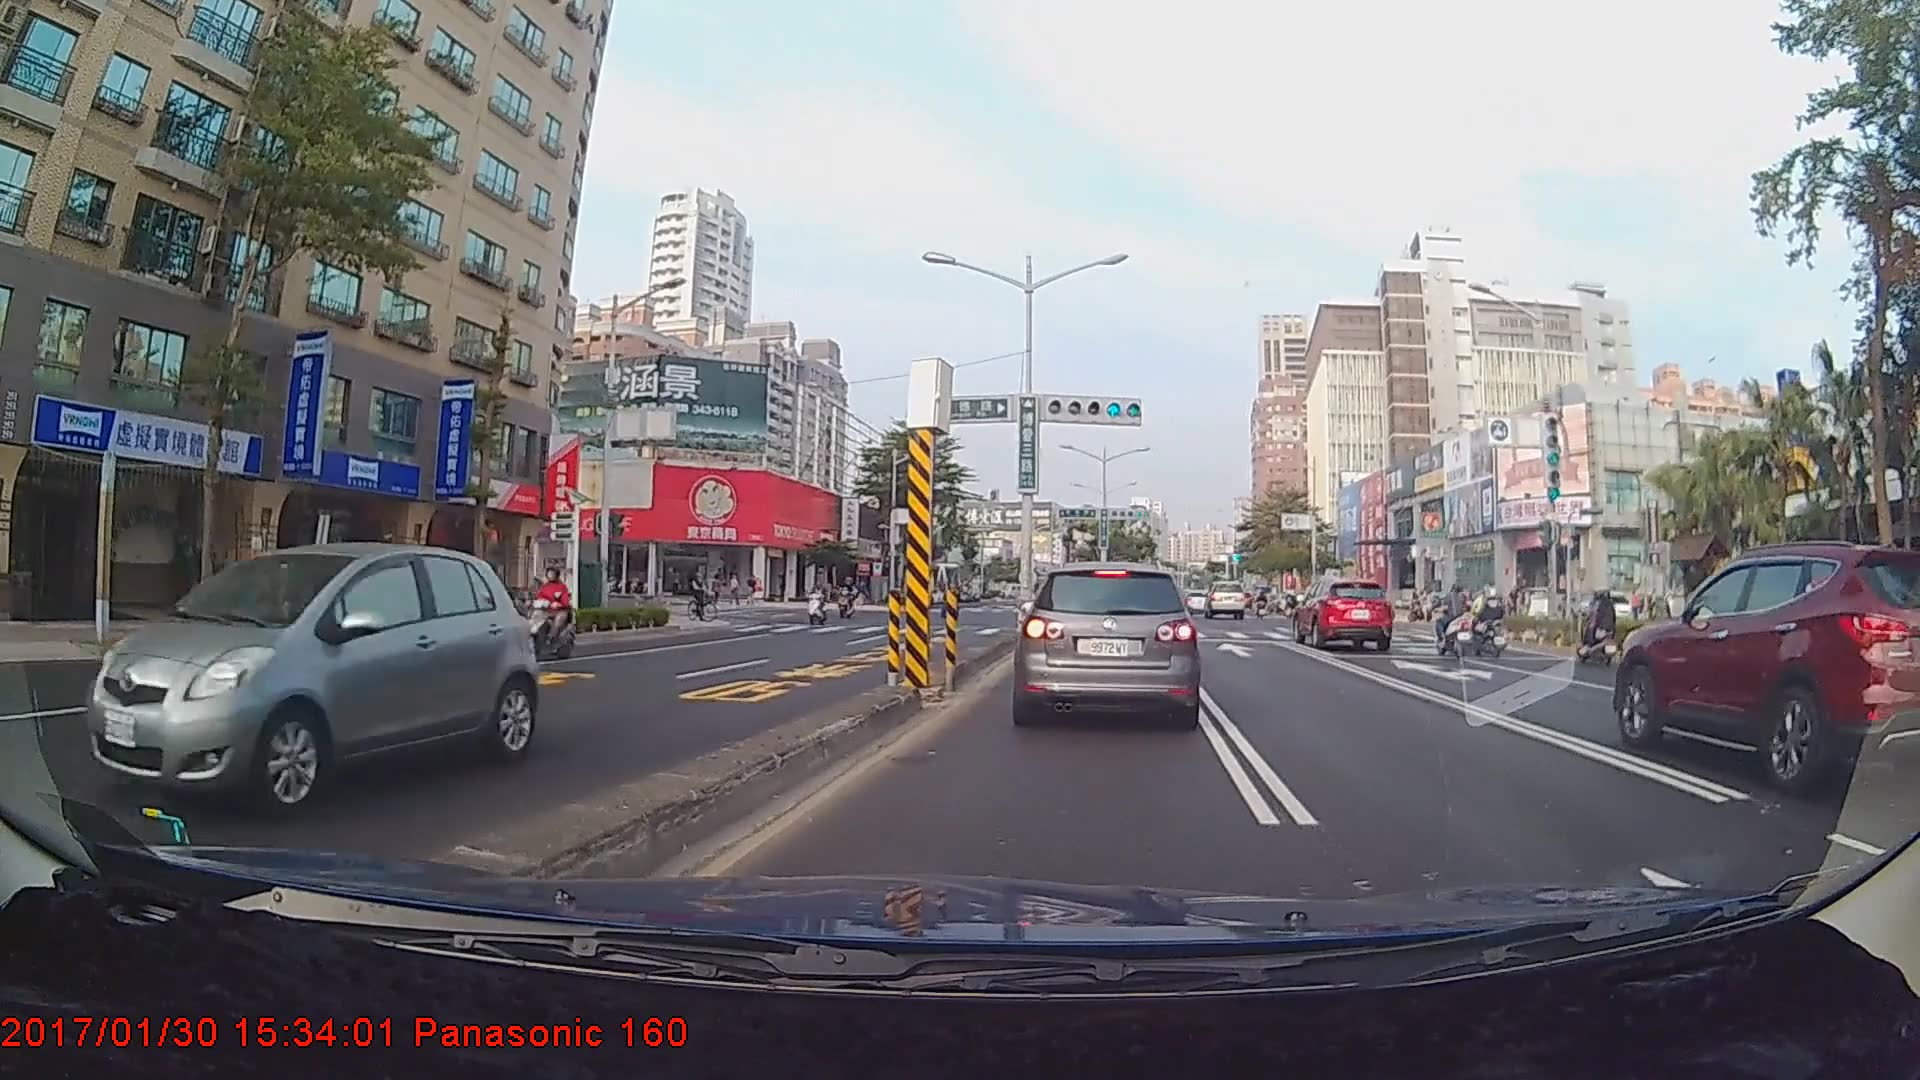rider: (1428, 584, 1483, 662), (1577, 590, 1629, 670), (1464, 584, 1515, 663), (676, 565, 717, 622), (799, 578, 834, 627)
vehicle: (86, 539, 536, 823), (1611, 538, 1917, 797), (1014, 558, 1201, 727), (1291, 572, 1396, 651), (1204, 580, 1246, 620)
